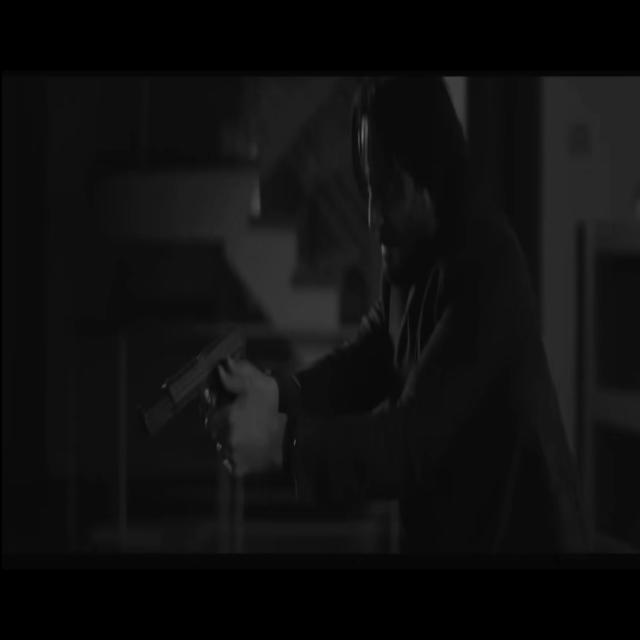weapons: (129, 288, 273, 477)
